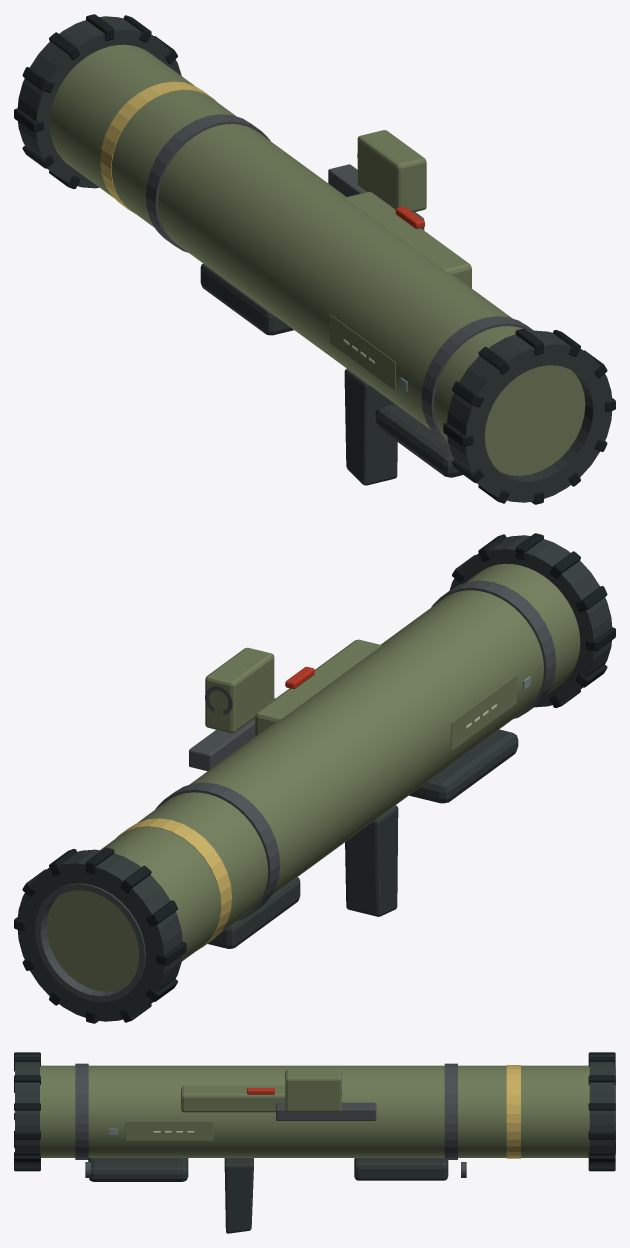
Rendered from rocket.glb.
3 renders of one model, top to bottom at view 1: azimuth 30°, elevation 25°; view 2: azimuth 150°, elevation 25°; view 3: azimuth 270°, elevation 25°, orthographic. The views are drawn at different scales.
Visible parts, largest first — view 1: Weapon_rocket_realism_v2; view 2: Weapon_rocket_realism_v2; view 3: Weapon_rocket_realism_v2.
Part boxes in pixels (left/top/right/bottom): Weapon_rocket_realism_v2: left=14, top=14, right=615, bottom=504; Weapon_rocket_realism_v2: left=14, top=533, right=615, bottom=1023; Weapon_rocket_realism_v2: left=14, top=1052, right=615, bottom=1233.
Bounding box in the file's own units: 0.2075 × 0.3179 × 0.9615.
